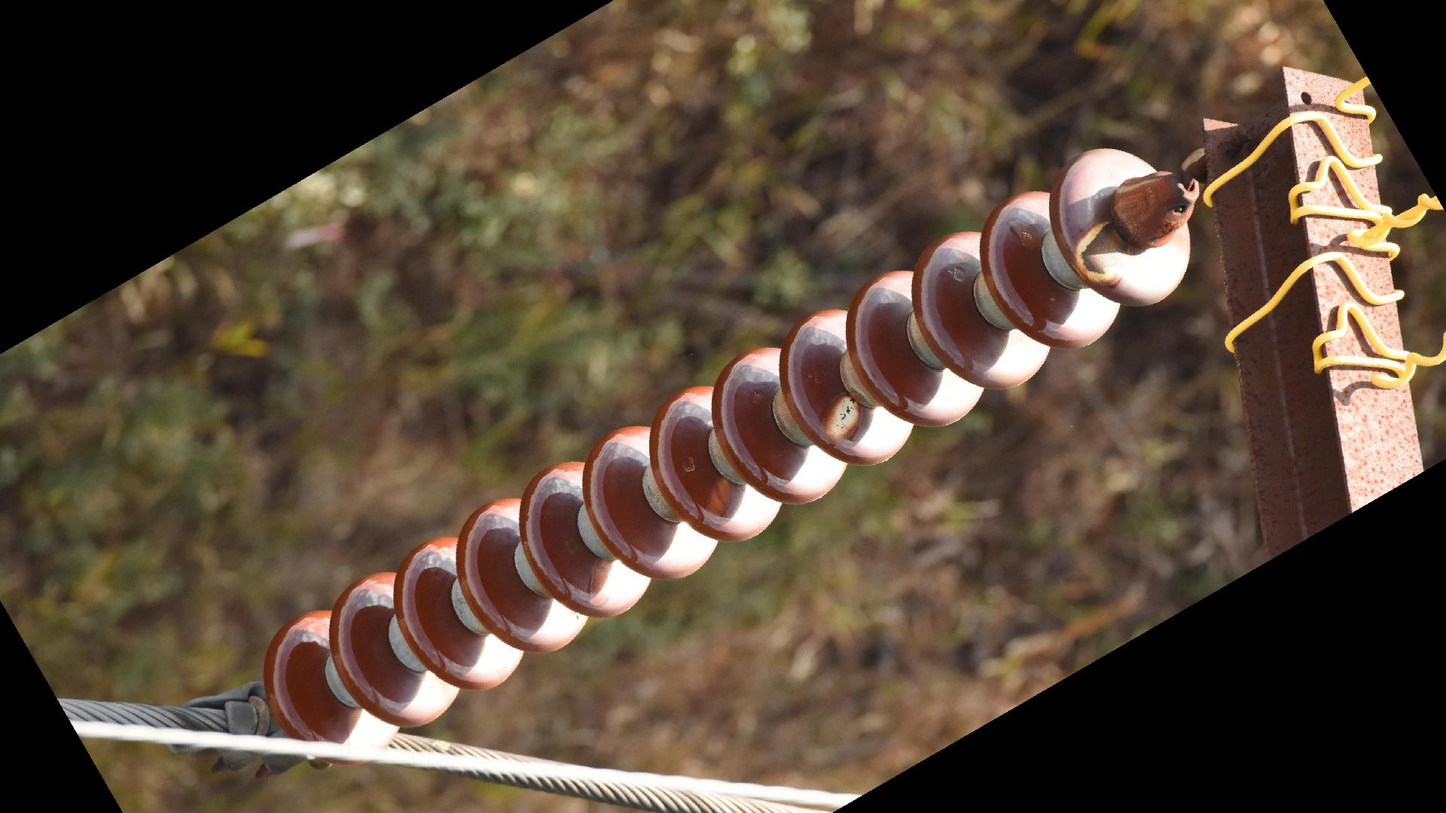insulator: (255, 141, 1197, 765)
insulator_flashover: (1073, 217, 1133, 285), (821, 392, 866, 445), (581, 553, 619, 614), (697, 470, 738, 524)
